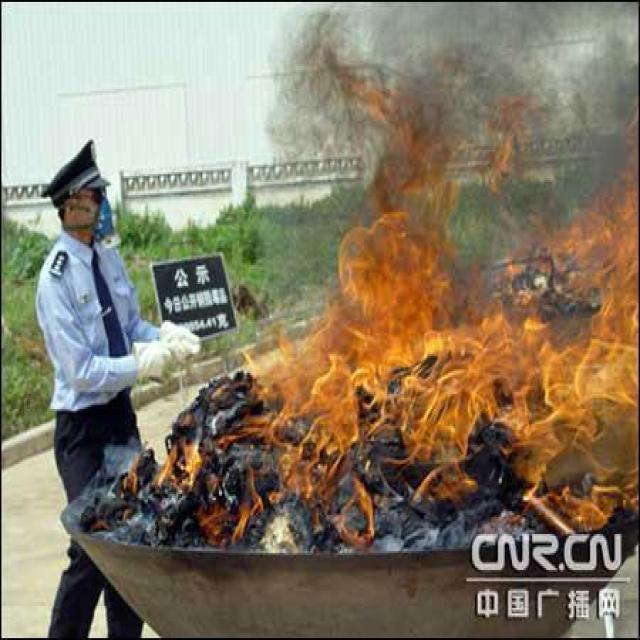fire: (114, 61, 638, 532)
